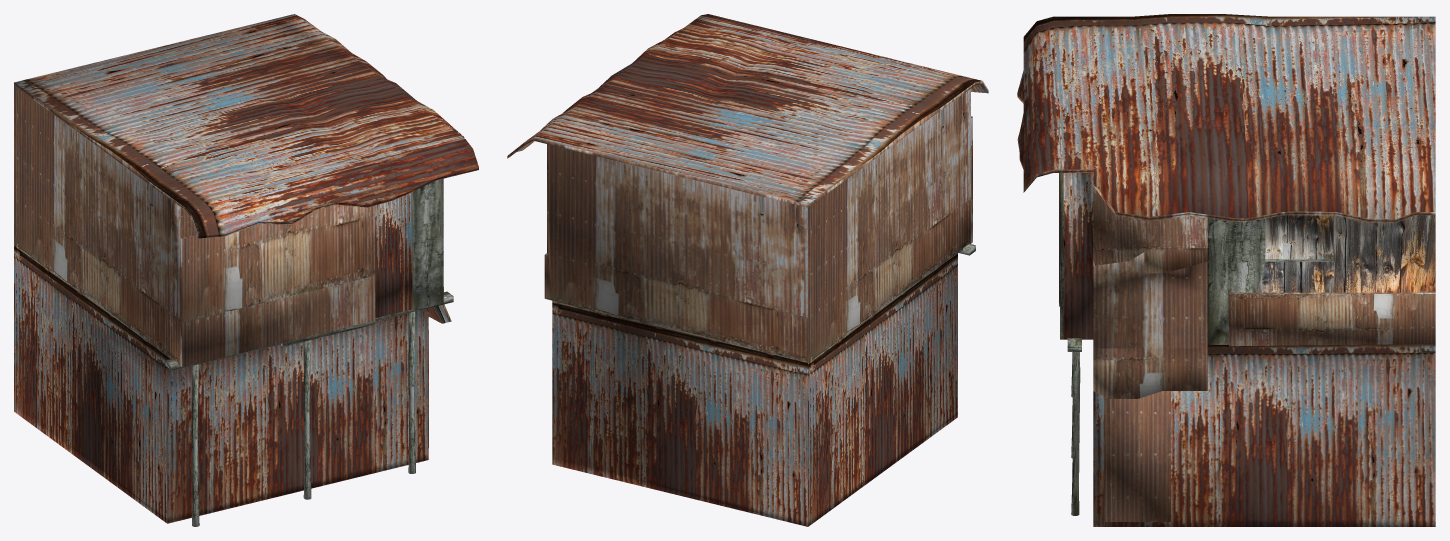
File: shanty13.fbx
3 views of the same model, side by side, from view 1: azimuth 30°, elevation 25°; view 2: azimuth 150°, elevation 25°; view 3: azimuth 270°, elevation 25° (orthographic). The views are drawn at different scales.
Visible parts, largest first — view 1: U3DMesh; view 2: U3DMesh; view 3: U3DMesh.
Part boxes in pixels (x1,y1,x2,y2): U3DMesh: (14, 14, 478, 526); U3DMesh: (507, 14, 988, 526); U3DMesh: (1017, 14, 1435, 526).
Size of the model in its own units: 243 by 244 by 248.
